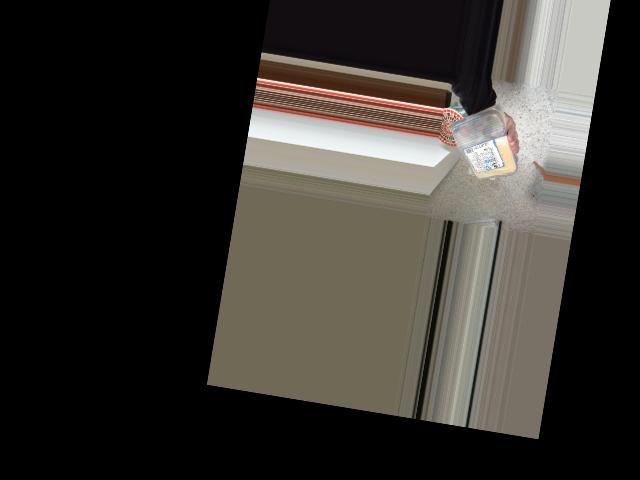cheese: (444, 107, 515, 185)
